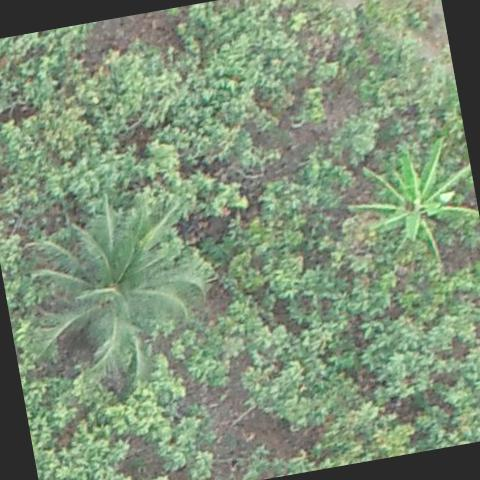Banana-plant: (335, 130, 480, 287)
